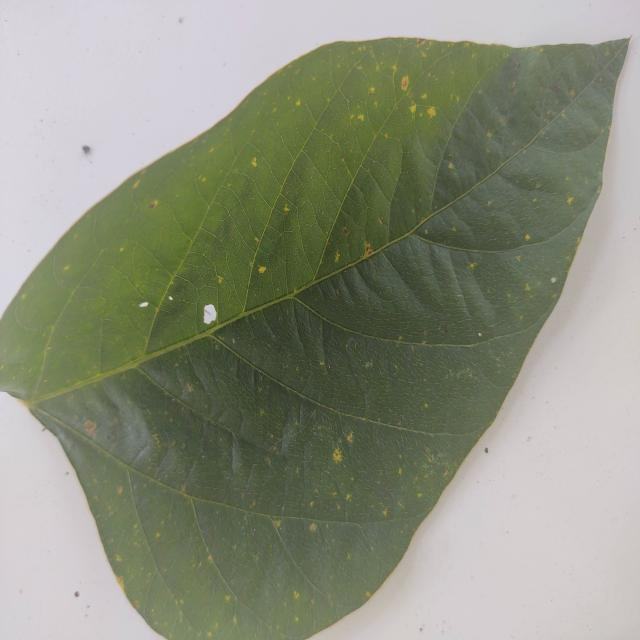Soybean: (0, 37, 640, 640)
downey_mildew: (56, 400, 359, 638), (28, 294, 348, 426), (181, 56, 340, 304), (303, 282, 497, 445), (13, 241, 175, 400), (370, 40, 496, 233), (405, 215, 585, 334), (192, 495, 336, 635), (129, 337, 264, 471), (78, 457, 182, 625), (411, 163, 596, 254), (339, 240, 485, 340), (214, 298, 362, 392), (32, 376, 158, 475), (331, 408, 457, 506), (211, 303, 323, 412), (529, 39, 626, 153), (287, 507, 382, 616), (154, 476, 356, 522), (2, 264, 76, 389), (320, 147, 386, 275), (246, 354, 314, 464), (316, 302, 393, 398), (145, 261, 221, 355), (151, 162, 225, 254), (289, 470, 407, 527), (41, 288, 108, 384), (410, 42, 483, 129), (355, 134, 405, 243), (492, 50, 558, 127), (441, 241, 497, 328), (54, 205, 114, 286), (396, 127, 442, 231), (121, 238, 179, 314), (238, 233, 289, 315), (139, 556, 193, 633), (430, 147, 485, 218), (337, 54, 385, 121), (290, 299, 323, 384), (528, 118, 604, 152), (97, 262, 150, 308), (319, 265, 368, 313), (118, 297, 160, 347), (149, 439, 190, 486), (503, 170, 574, 193), (378, 103, 409, 142)
